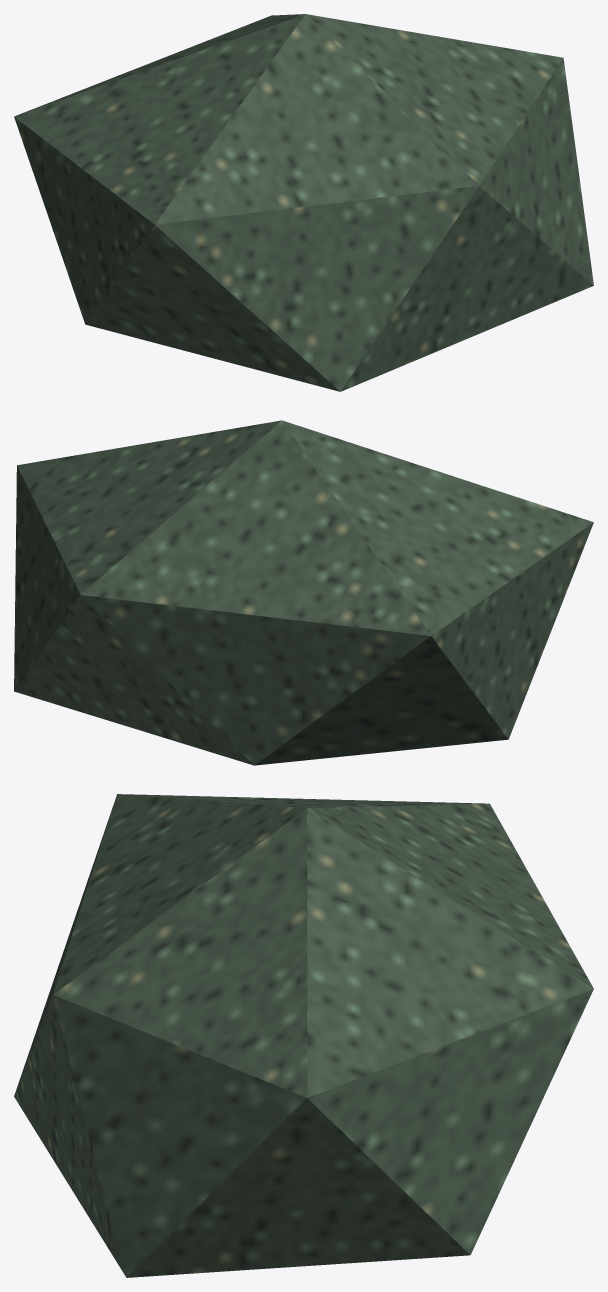
The model's file is SM_Forest_Rock_M_120x100x60.fbx.
3 renders of one model, top to bottom at view 1: azimuth 30°, elevation 25°; view 2: azimuth 150°, elevation 25°; view 3: azimuth 270°, elevation 25°, orthographic. The views are drawn at different scales.
Parts seen in each view (by area): view 1: SM_Forest_Rock_M_120x100x60.010; view 2: SM_Forest_Rock_M_120x100x60.010; view 3: SM_Forest_Rock_M_120x100x60.010.
Boxes of the visible parts, left/top/right/bottom form: SM_Forest_Rock_M_120x100x60.010: left=14, top=14, right=593, bottom=391; SM_Forest_Rock_M_120x100x60.010: left=14, top=420, right=593, bottom=765; SM_Forest_Rock_M_120x100x60.010: left=14, top=794, right=593, bottom=1277.
Bounding box in the file's own units: 1.22 × 0.6772 × 1.02.
